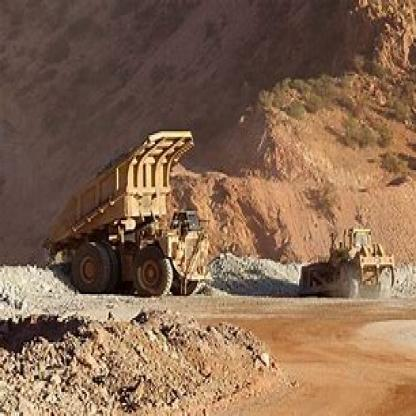bull_dozer/loader/grader: (294, 216, 400, 305)
dump_truck: (42, 126, 212, 300)
